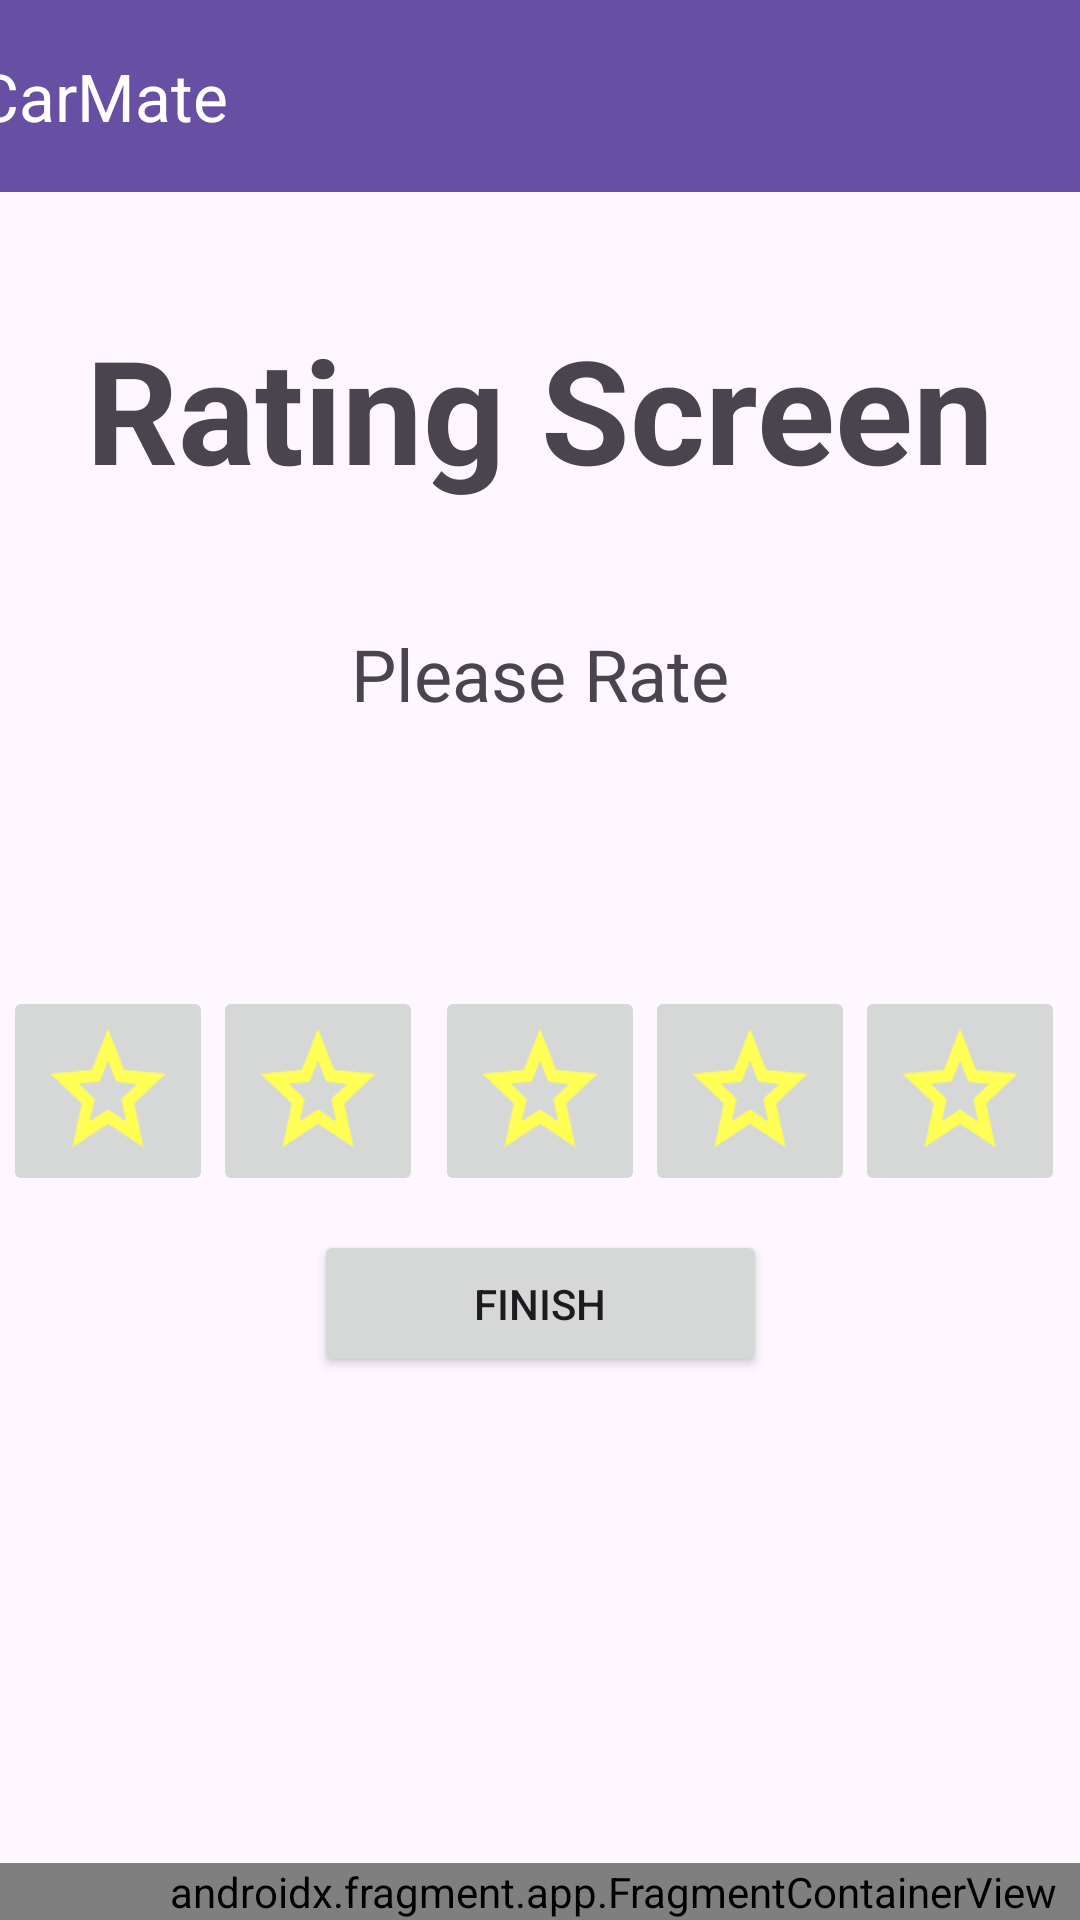

Icon click points for this 1080x1920 phone screenshot, format point (x, y):
unfilledstar: point (108, 1091), point (318, 1091), point (540, 1091), point (750, 1091), point (960, 1091)
